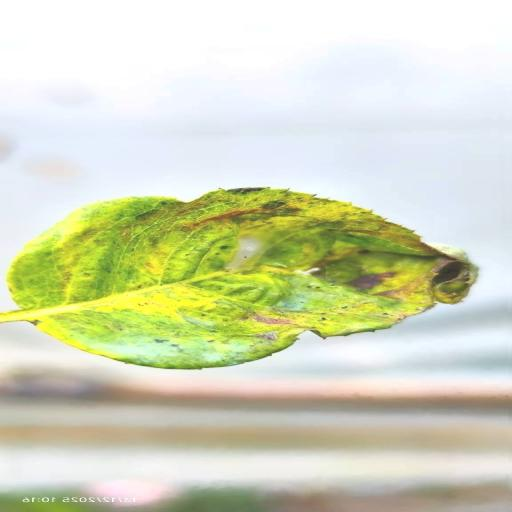thrip: (0, 187, 475, 369)
